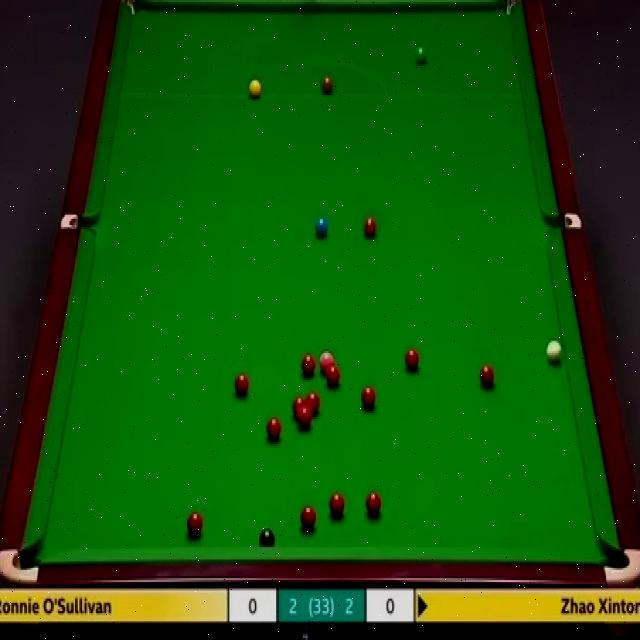black-ball: (258, 528, 276, 548)
blue-ball: (313, 213, 328, 239)
brown-ball: (321, 76, 333, 94)
green-ball: (412, 46, 428, 65)
pink-ball: (320, 352, 334, 374)
red-ball: (403, 346, 421, 375), (186, 511, 204, 537), (365, 490, 382, 517), (329, 492, 345, 518), (234, 374, 250, 400), (360, 385, 376, 411), (363, 214, 377, 243), (301, 504, 316, 530), (306, 392, 321, 417), (325, 364, 341, 387), (266, 417, 281, 441), (479, 364, 494, 388), (292, 396, 306, 417), (298, 409, 312, 429), (302, 356, 315, 376)
white-ball: (545, 336, 564, 364)
yellow-ball: (248, 77, 261, 98)
